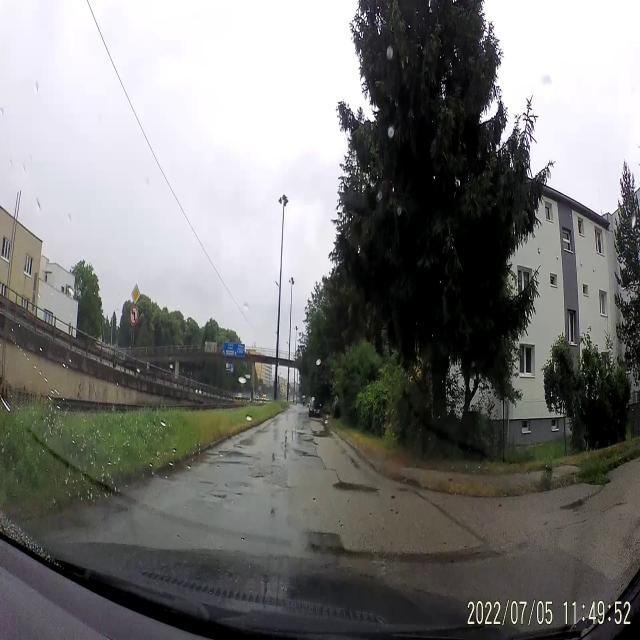Pothole: (302, 526, 351, 558), (332, 473, 380, 498)
